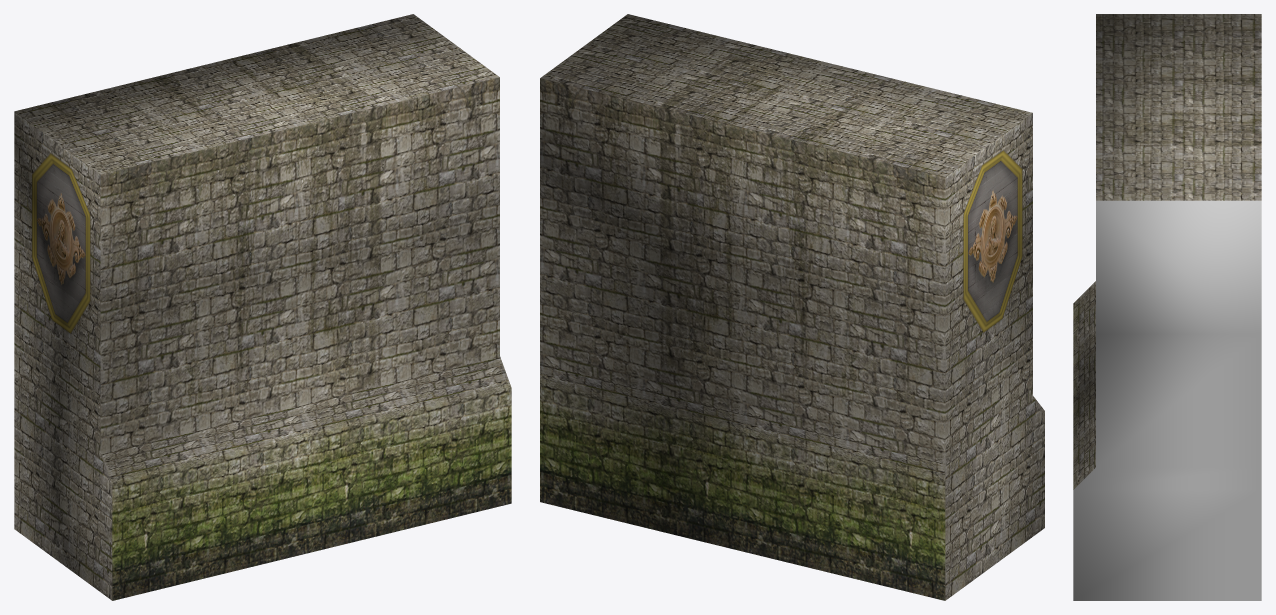
File: Wall_1.fbx
The picture shows the model from 3 angles, left to right: view 1: azimuth 30°, elevation 25°; view 2: azimuth 150°, elevation 25°; view 3: azimuth 270°, elevation 25°; orthographic projection. The views are drawn at different scales.
Visible parts, largest first — view 1: Cube_001; view 2: Cube_001; view 3: Cube_001.
Part boxes in pixels (left/top/right/bottom): Cube_001: left=14, top=14, right=511, bottom=600; Cube_001: left=540, top=14, right=1044, bottom=600; Cube_001: left=1073, top=14, right=1261, bottom=600.
Size of the model in its own units: 512 by 512 by 218.
